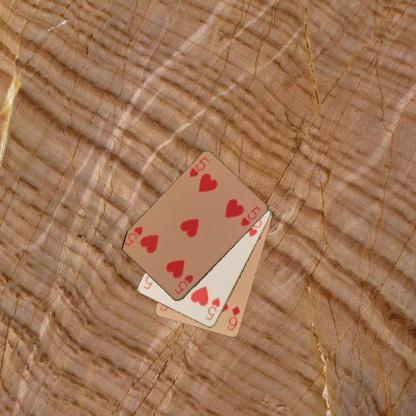5h: (187, 154, 210, 178), (202, 295, 221, 322), (172, 272, 194, 295)
6d: (224, 303, 242, 332)
